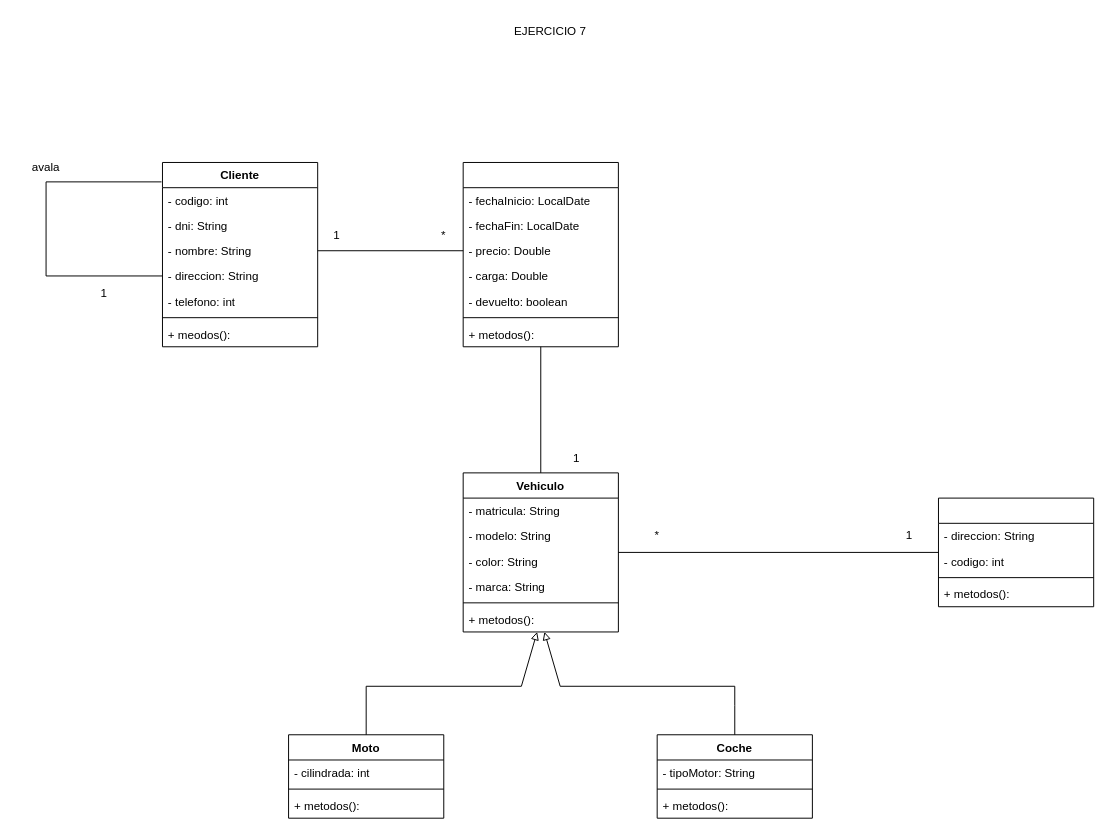
The diagram is 1111 pixels wide and 837 high, and some of its shapes have lost their labels. The box of each missing label's shape, as (x1, y1, x2, y2) in pixels:
Garaje: (938, 497, 1094, 607)
Reserva: (462, 162, 618, 347)
